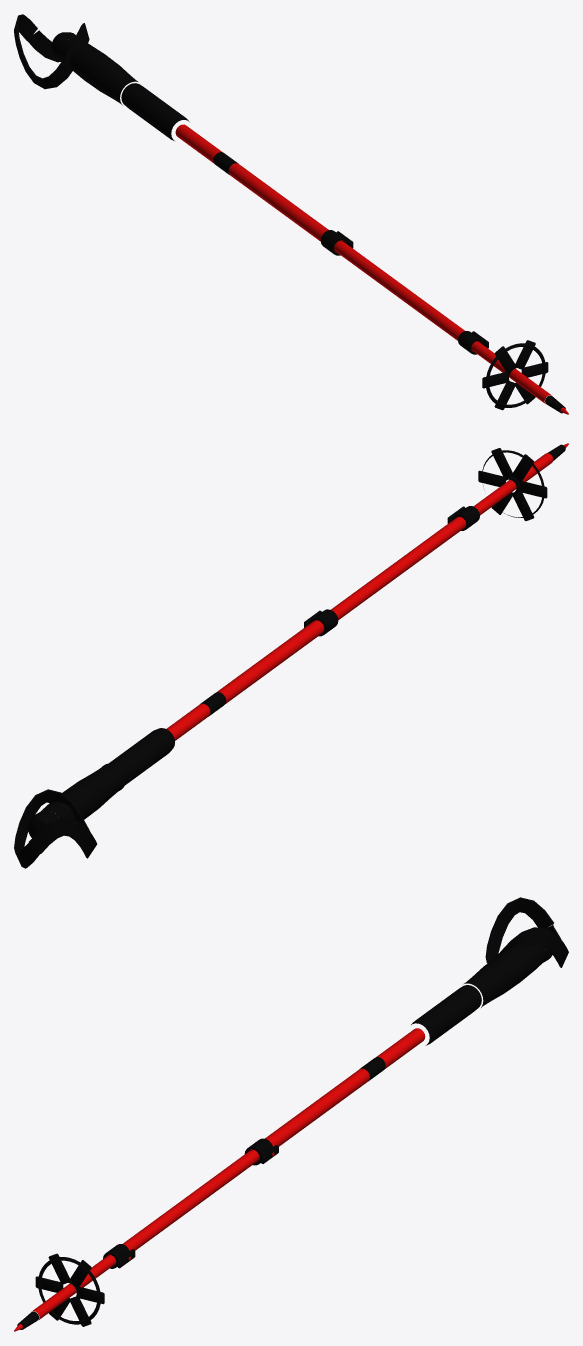
Rendered from pole.glb.
3 views of the same model, one above another, from view 1: azimuth 30°, elevation 25°; view 2: azimuth 150°, elevation 25°; view 3: azimuth 330°, elevation 25° (orthographic). The views are drawn at different scales.
Parts seen in each view (by area): view 1: pole; view 2: pole; view 3: pole.
Part boxes in pixels (bbox=[...]): pole: bbox=[14, 14, 568, 414]; pole: bbox=[14, 443, 568, 868]; pole: bbox=[14, 897, 568, 1331].
Bounding box in the file's own units: 0.119 × 0.0933 × 1.38.
